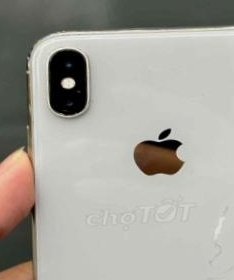scratch: (196, 199, 234, 280), (123, 253, 221, 280), (53, 105, 86, 124)
